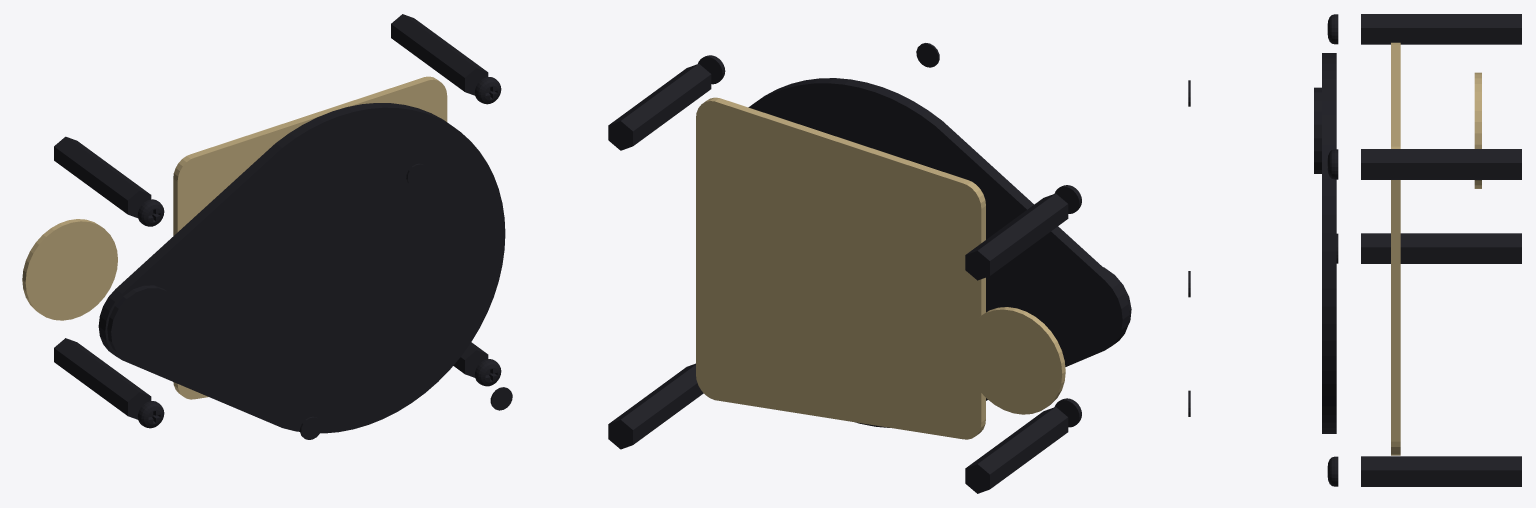
Rendered from rplidar_vis.obj.
3 renders of one model, left to right at view 1: azimuth 30°, elevation 25°; view 2: azimuth 150°, elevation 25°; view 3: azimuth 270°, elevation 25°, orthographic. The views are drawn at different scales.
Bounding box in the file's own units: 0.0968 × 0.0706 × 0.0553.
1 material, 1 textured.
